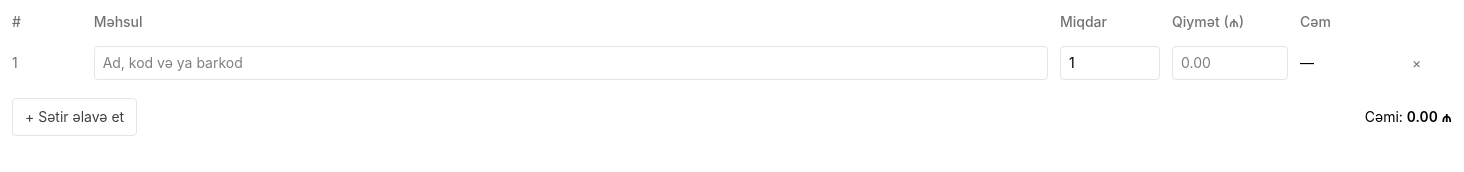
Scenario: DocumentLinesEditor product picker › a scanned barcode picks the product, prefills the price and focuses the quantity
The image size is (1464, 172).
Type "khz-dfct-blk-s" into the dropdown named "Sətir 1: məhsul".
click(571, 63); type("khz-dfct-blk-s")  # box [94,46,1048,80]
Then press Enter
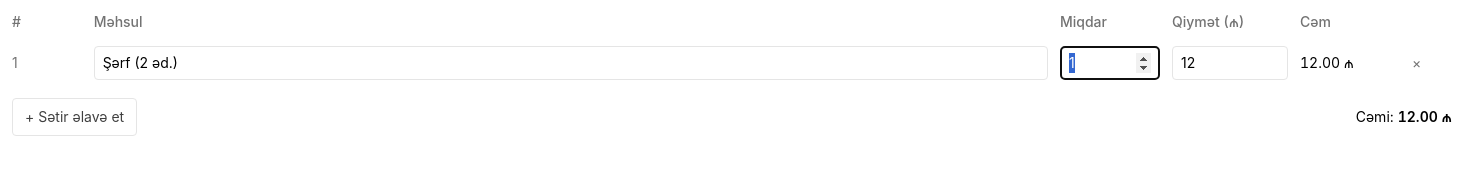
Expected: the dropdown named "Sətir 1: məhsul" holds "Şərf (2 əd.)", [94,46,1048,80]
Expected: the number field named "Sətir 1: qiymət" holds "12", [1172,46,1288,80]
